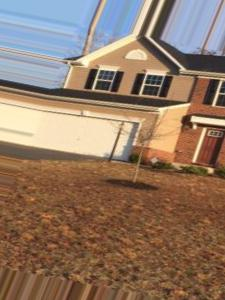patch: (16, 220, 118, 263), (127, 199, 200, 232), (24, 179, 93, 207), (141, 246, 194, 281), (169, 174, 209, 189), (88, 160, 122, 170), (101, 184, 116, 205)
